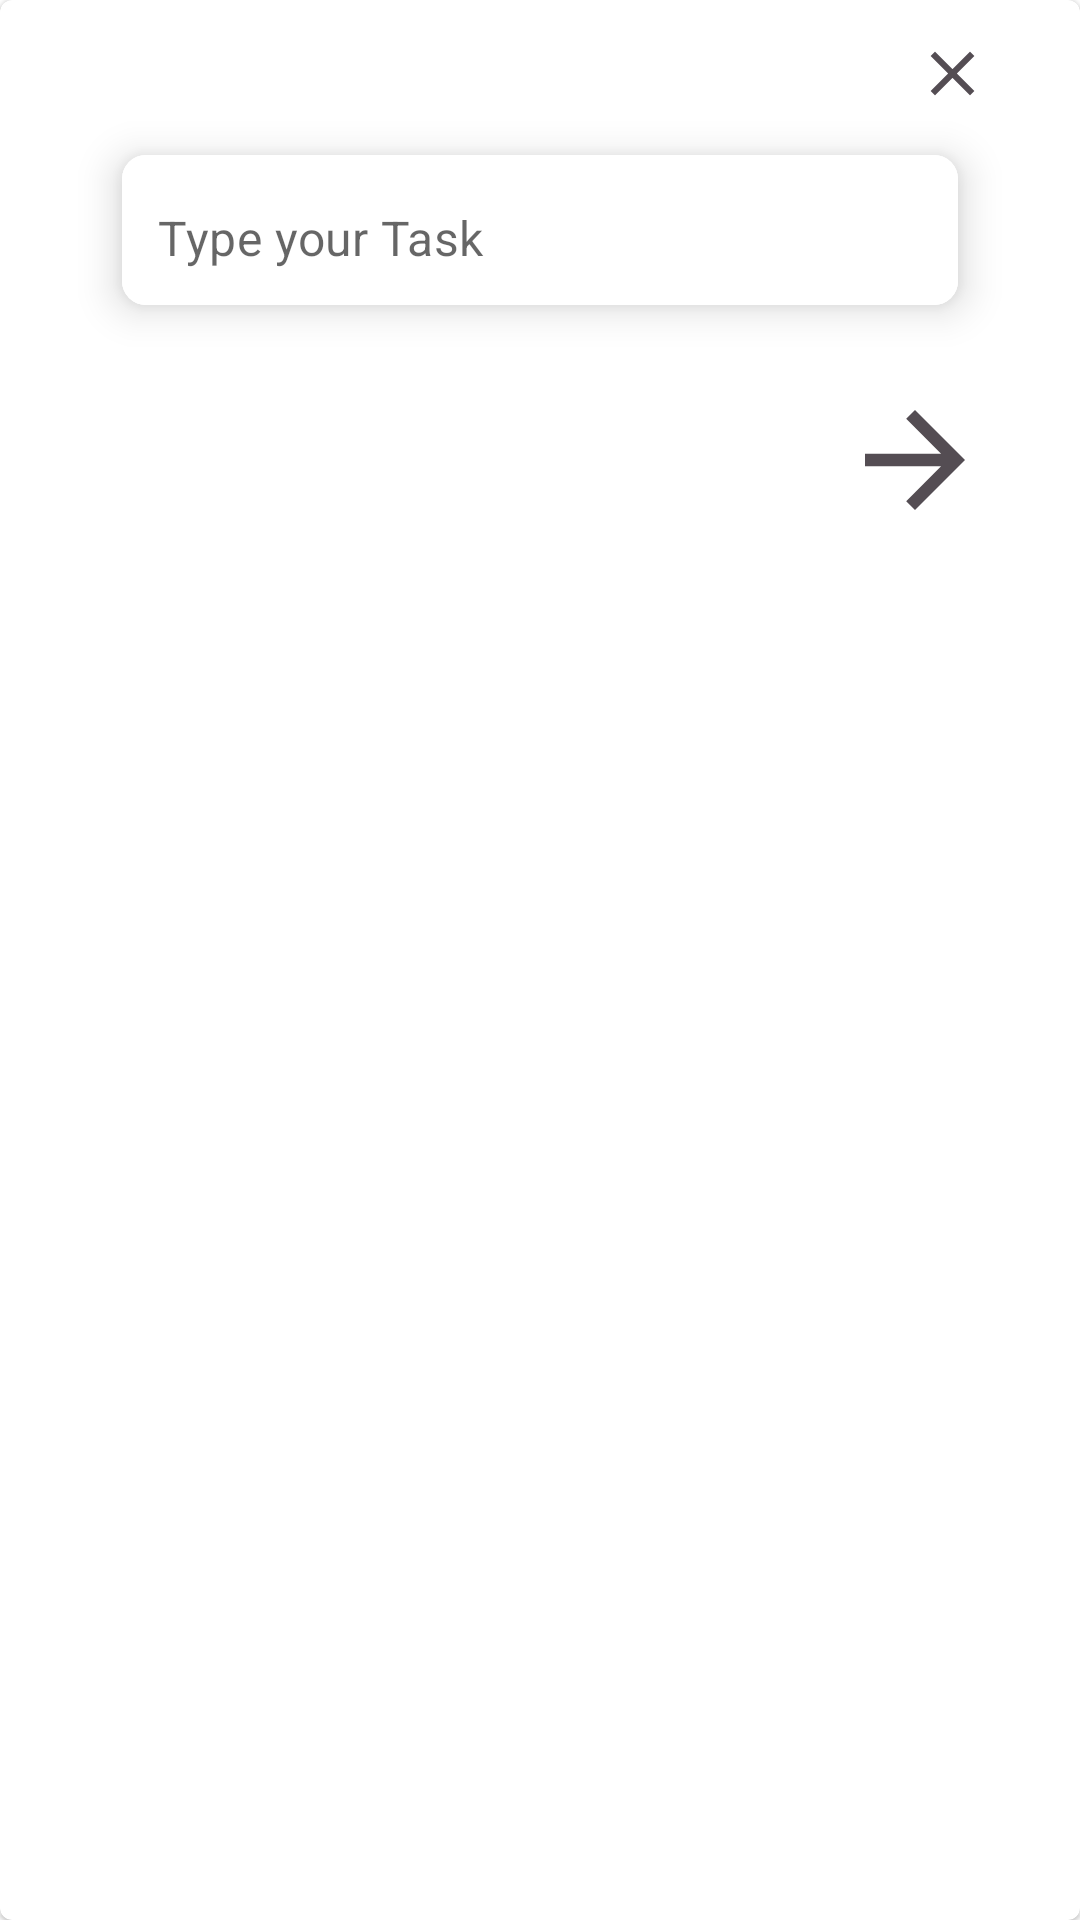

Named icons in this screenshot (1080px x 1920px) and their centers, (x=x, y=y):
close: (x=952, y=73)
